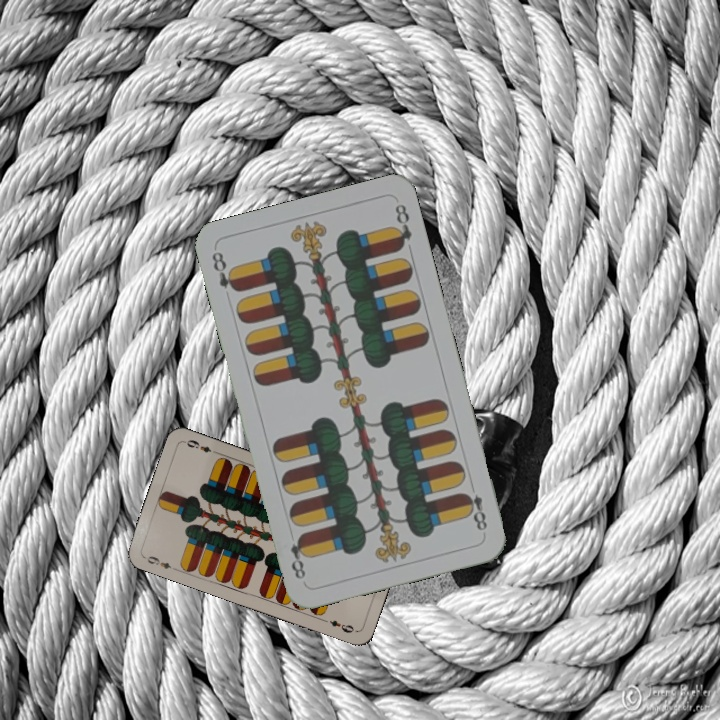E8: (208, 247, 241, 295), (459, 488, 490, 534)
E9: (140, 552, 179, 573)
